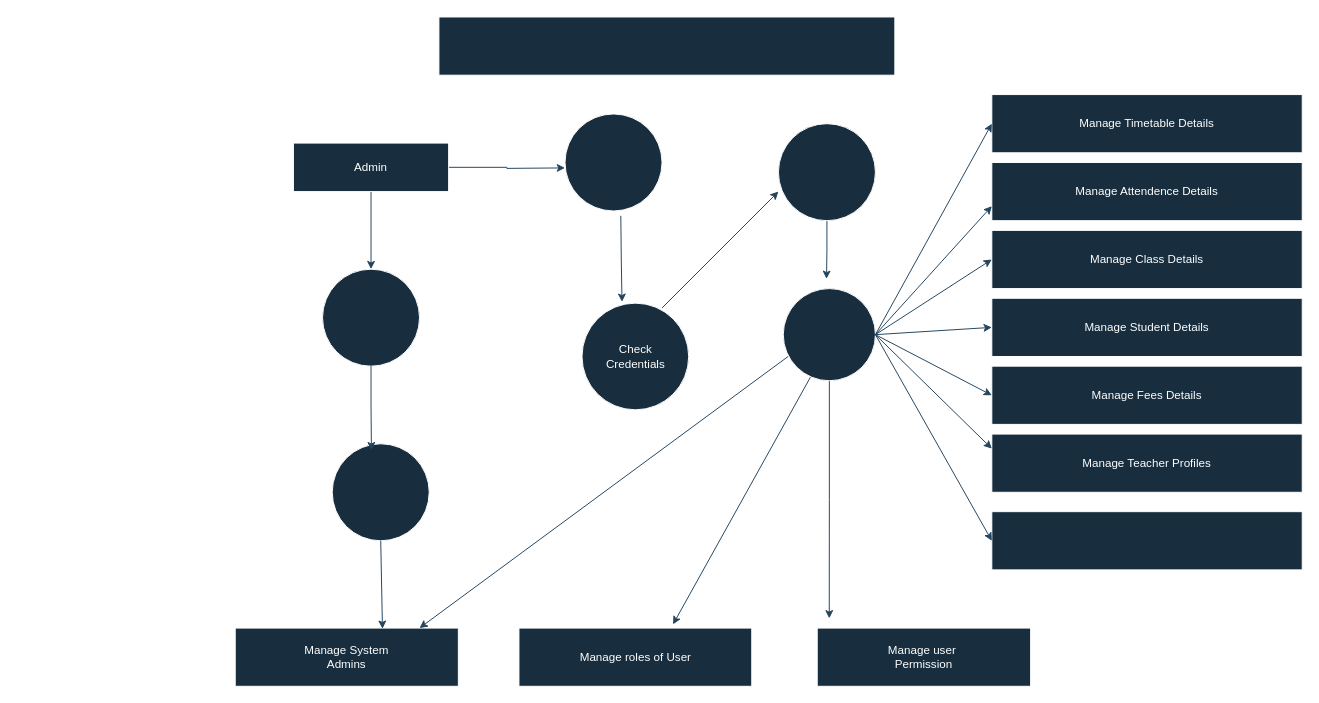
The diagram is 1319 pixels wide and 703 high, and some of its shapes have lost their labels. Here are the shapes that lost their labels. From the top down, the centre of each, then its label:
At point 666,45: "Student Information system".
At point 613,162: "Login to system".
At point 826,172: "check roles of access".
At point 371,317: "Forgot Password".
At point 828,334: "Manage modules".
At point 380,492: "Send Email to User".
